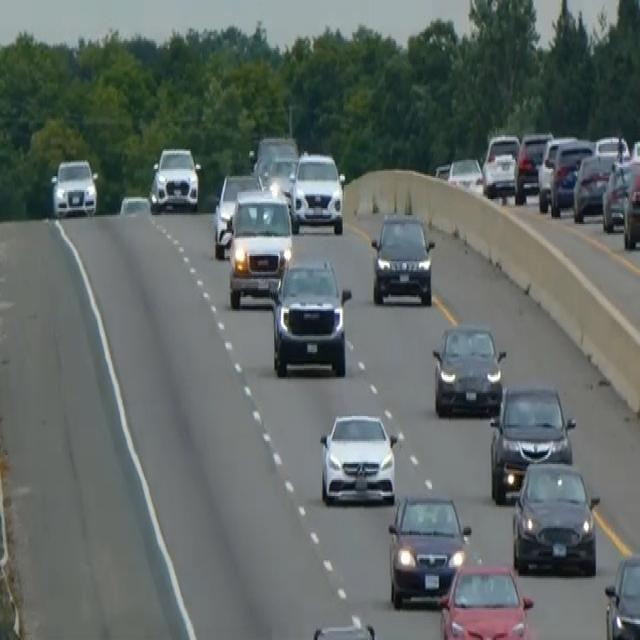car: (488, 382, 575, 503), (511, 459, 600, 576), (387, 492, 471, 608), (226, 186, 292, 308), (318, 411, 397, 505), (438, 560, 533, 638), (431, 320, 506, 418), (370, 210, 435, 306), (290, 149, 345, 235), (537, 135, 593, 215), (212, 170, 261, 258), (149, 144, 200, 213), (572, 150, 618, 222), (603, 551, 639, 638), (601, 155, 639, 233), (514, 130, 552, 202), (482, 132, 520, 198), (262, 153, 298, 203), (250, 133, 297, 169), (446, 154, 484, 196), (622, 162, 639, 249), (310, 620, 377, 638), (593, 133, 629, 160), (119, 192, 150, 215)
jeep: (268, 254, 352, 379), (49, 156, 99, 218)
